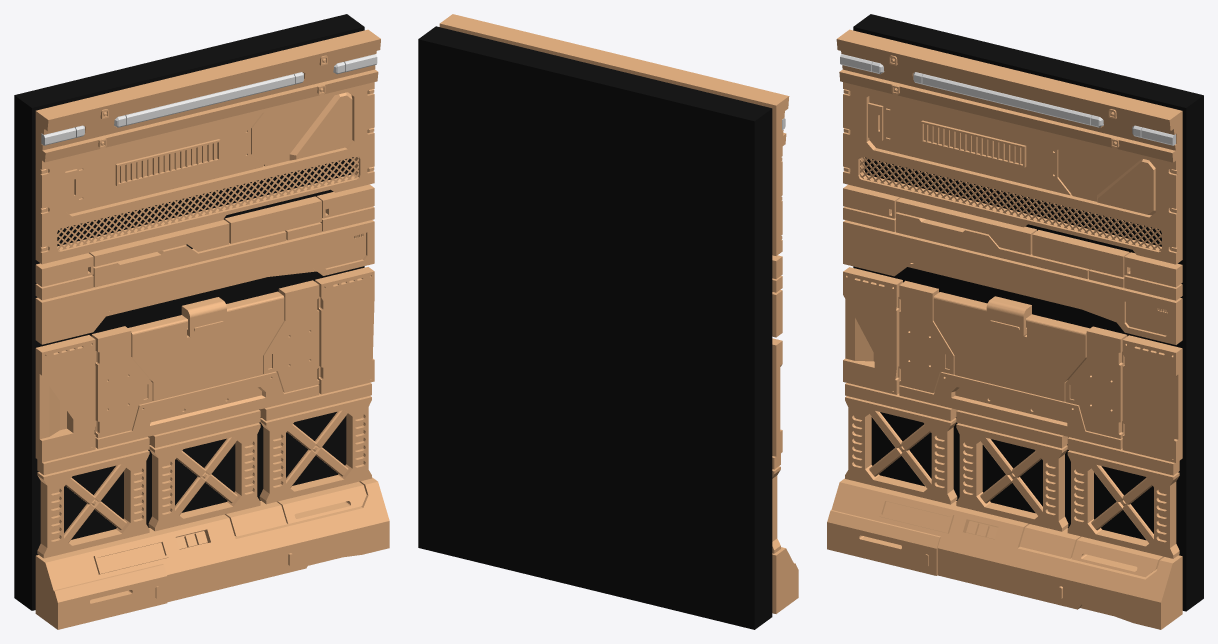
File: panel_high1-1.fbx
3 renders of one model, left to right at view 1: azimuth 30°, elevation 25°; view 2: azimuth 150°, elevation 25°; view 3: azimuth 330°, elevation 25°, orthographic.
Parts seen in each view (by area): view 1: panel.001; view 2: panel.001; view 3: panel.001.
Part boxes in pixels (box(x1,y1,x2,y2)): panel.001: box(14, 14, 389, 629); panel.001: box(418, 14, 798, 629); panel.001: box(827, 14, 1203, 629).
Size of the model in its own units: 1800 by 2600 by 414.
